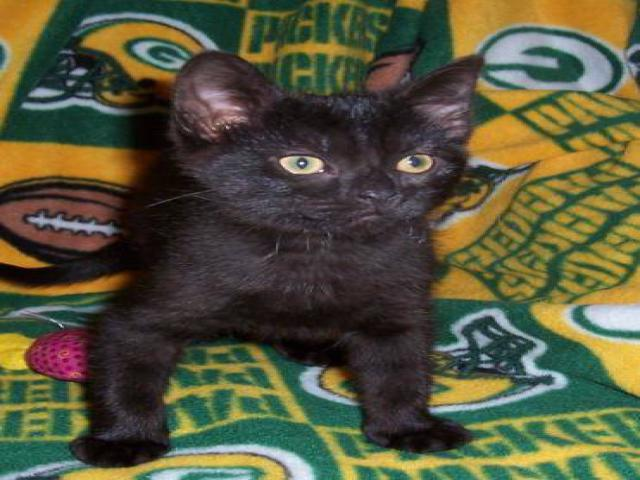cat: (60, 30, 509, 468)
